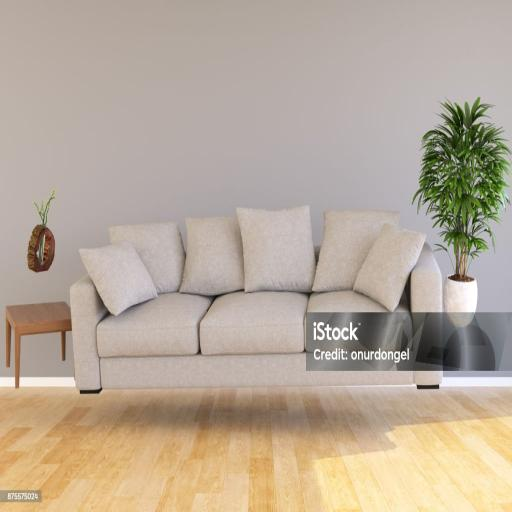back_cushion: (80, 206, 424, 315)
base: (76, 352, 414, 389)
left_arm: (408, 243, 442, 384)
legs: (416, 384, 438, 390), (80, 388, 102, 393)
right_arm: (70, 276, 108, 391)
seat_cushion: (93, 291, 412, 369)
stallion-sofa2: (70, 205, 452, 392)
